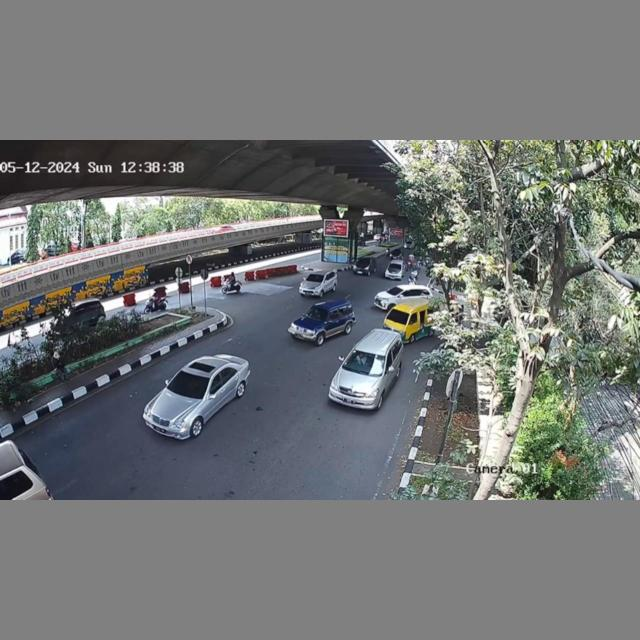windshield: (167, 370, 211, 400), (342, 350, 386, 376), (305, 305, 329, 322)
